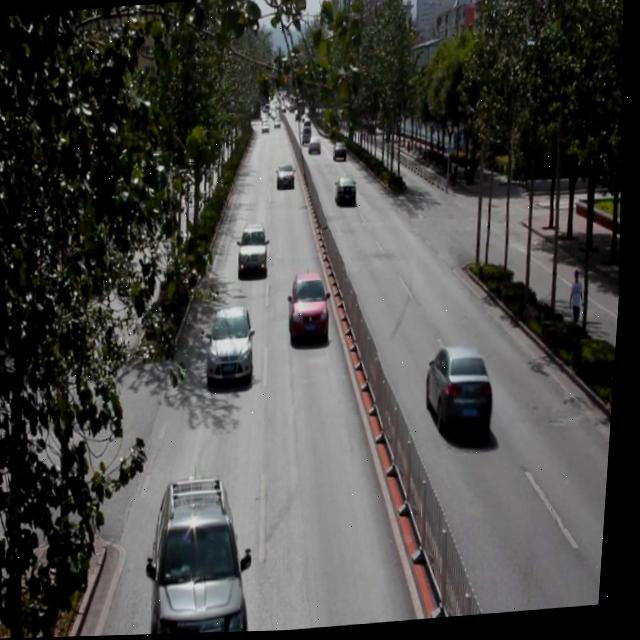car: (150, 472, 262, 636), (427, 344, 502, 436), (208, 304, 262, 383), (288, 271, 337, 348), (239, 223, 273, 277), (336, 176, 361, 210), (277, 163, 299, 191), (334, 141, 350, 161), (309, 135, 324, 156)
truck: (303, 127, 313, 145)
